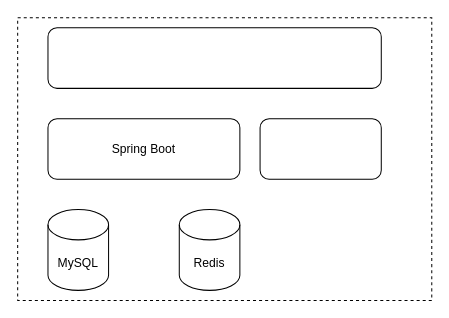
This 449x318 diagram has some shape labels left out. The shapes that lost their labels are listed below. From the top down, each one's centre as x and y in pixels, then its label:
point 214,57: KLMS API服务
point 320,148: Threfit RPC
